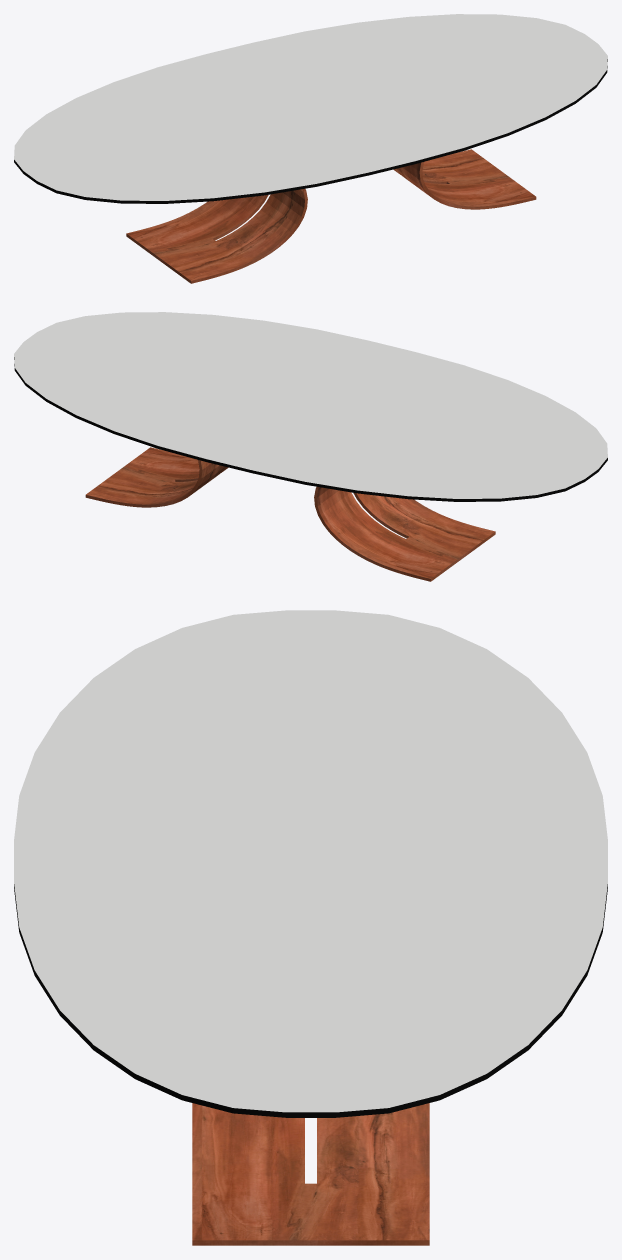
File: officeTable.fbx
3 renders of one model, top to bottom at view 1: azimuth 30°, elevation 25°; view 2: azimuth 150°, elevation 25°; view 3: azimuth 270°, elevation 25°, orthographic. The views are drawn at different scales.
Visible parts, largest first — view 1: Cube.001; view 2: Cube.001; view 3: Cube.001.
Part boxes in pixels (<box>): Cube.001: <box>14,14,607,283</box>; Cube.001: <box>14,312,607,581</box>; Cube.001: <box>14,610,607,1245</box>.
Bounding box in the file's own units: 200 × 39.3 × 100.
